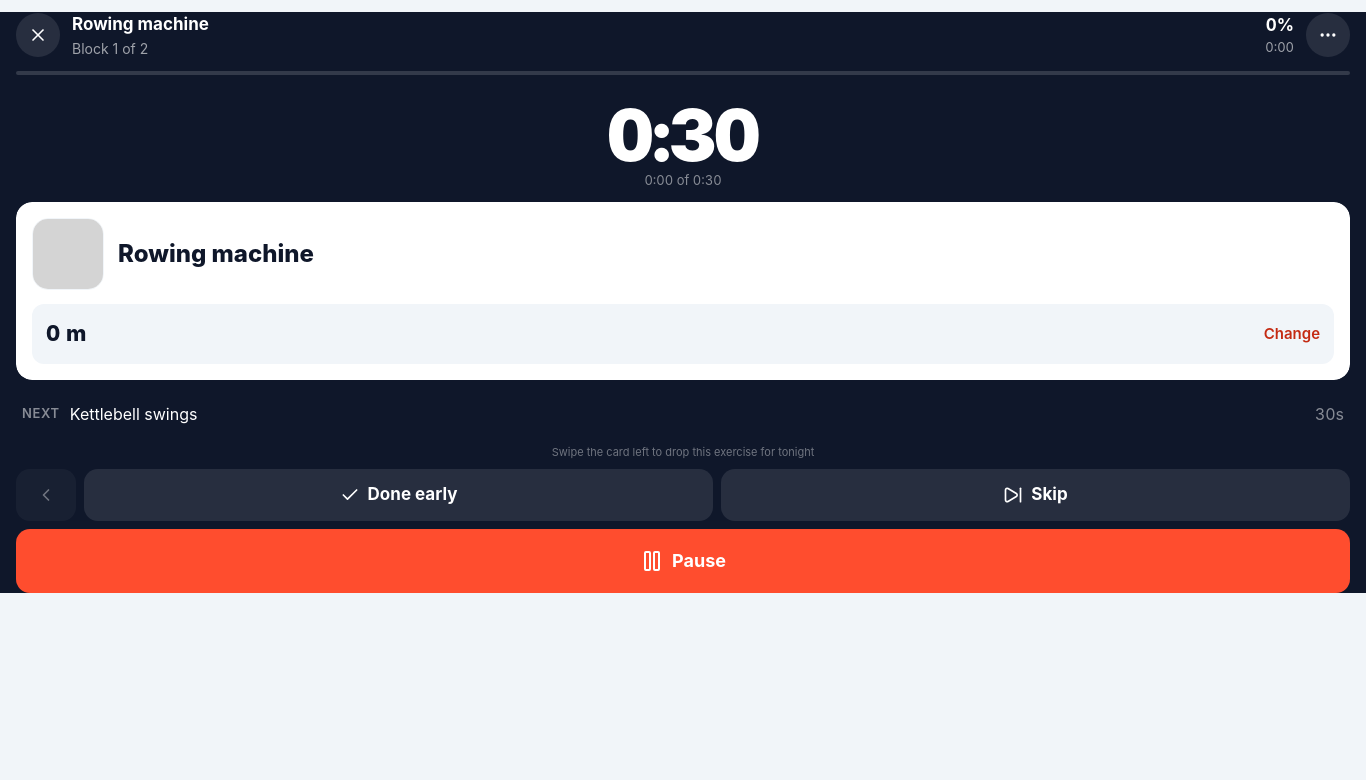
Test case: what the card asks to log › a timed rower set to log metres asks for them
Click the button with aria-label "0 m. Change": click(66, 333) [32,304,1334,364]
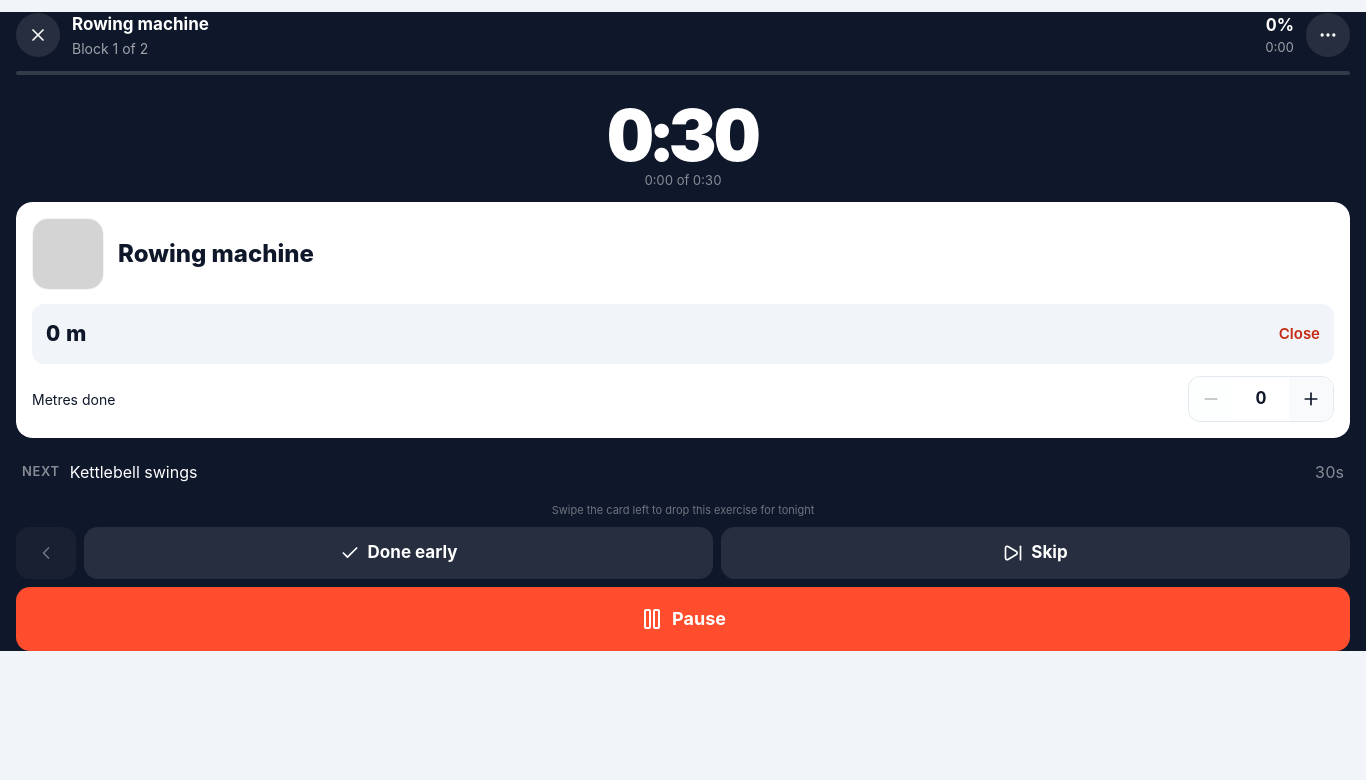
expect the text "Metres done" is shown: met, box [32,388,115,410]
